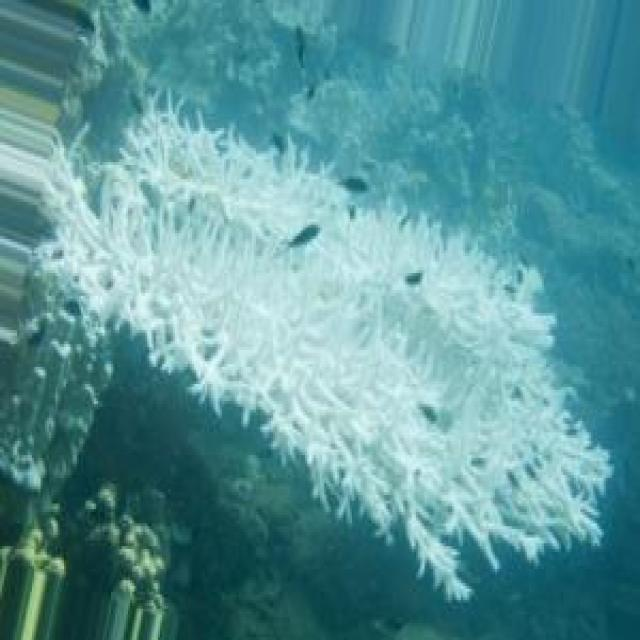bleached coral: (61, 105, 609, 599)
